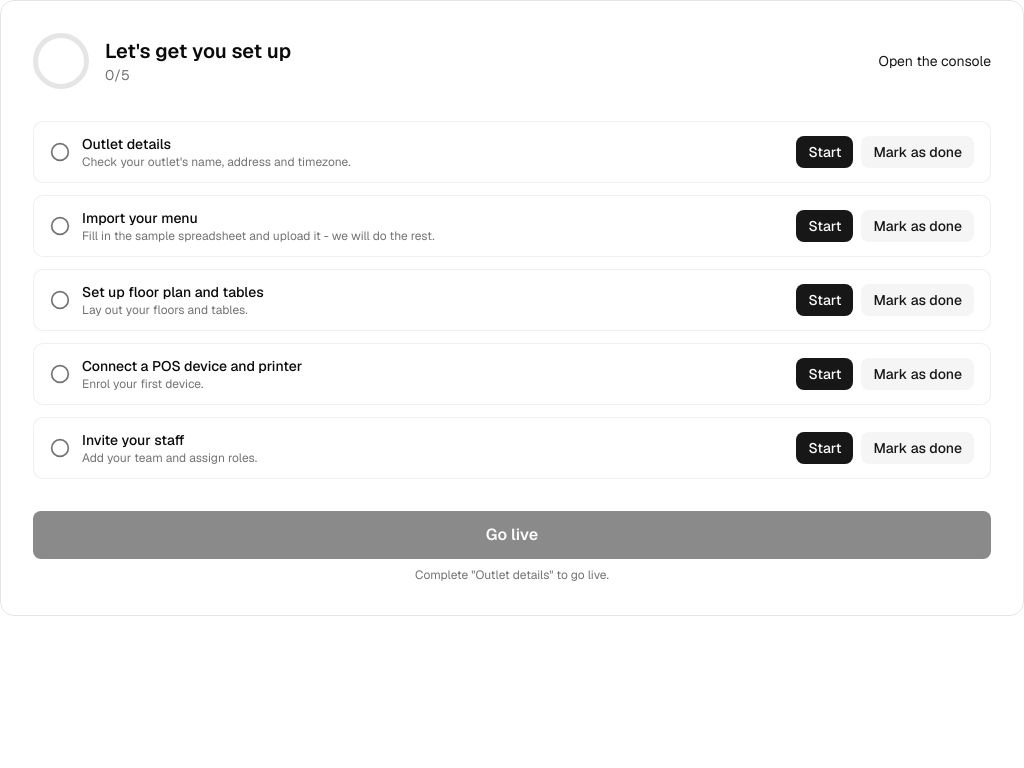
Test: GoLiveChecklist › lets the owner mark the floor plan done - nothing else ever completes it (walkthrough fix)
Check: the link with test id "admin-checklist-step-floor_plan-action" reads "Start", box x1=796 y1=284 x2=853 y2=316
Click the button with test id "admin-checklist-step-floor_plan-done" at (918, 300), box x1=861 y1=284 x2=974 y2=316
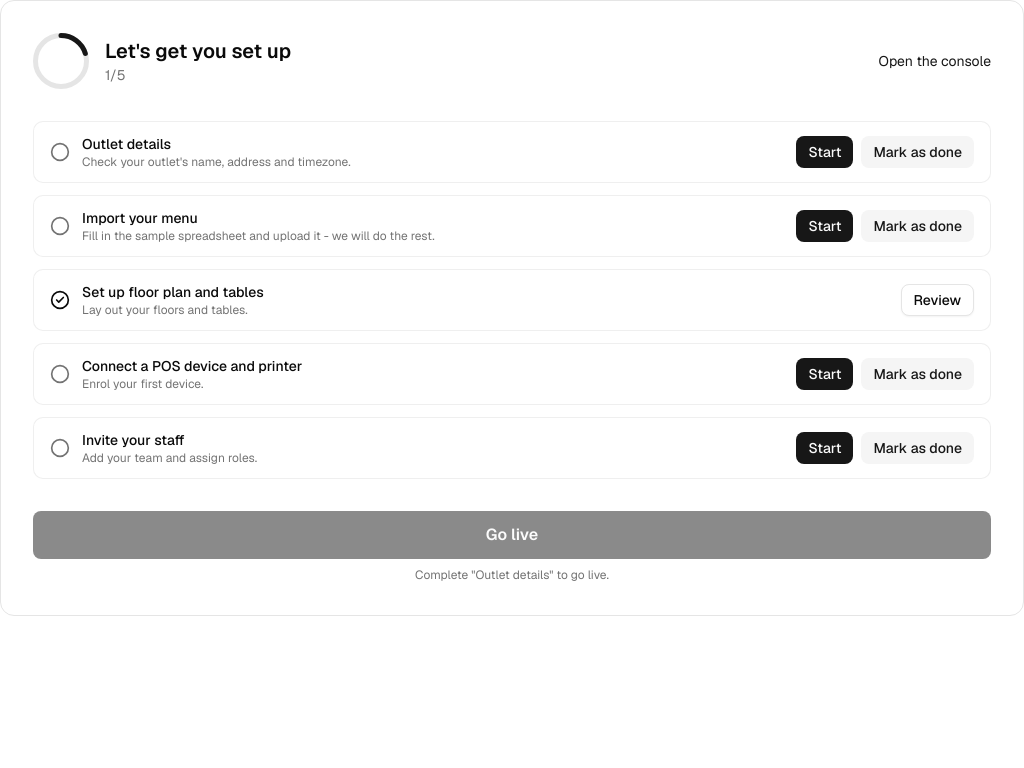
Check: the button with test id "admin-checklist-step-floor_plan-done" is gone
